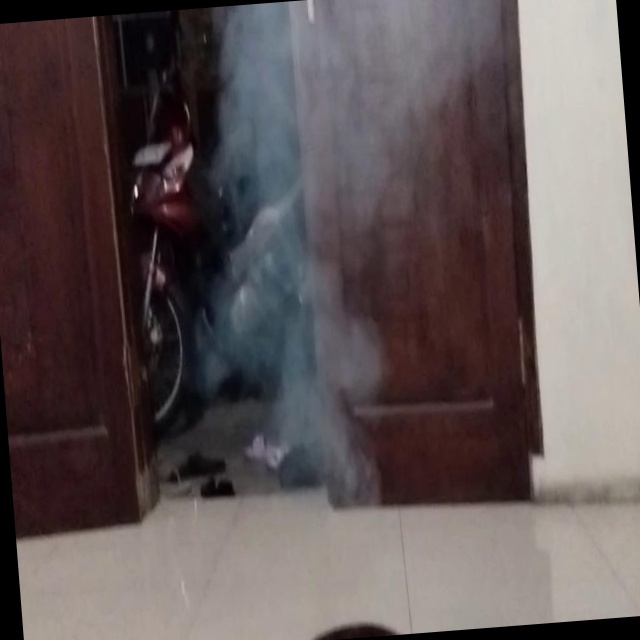smoke: (213, 3, 449, 508)
